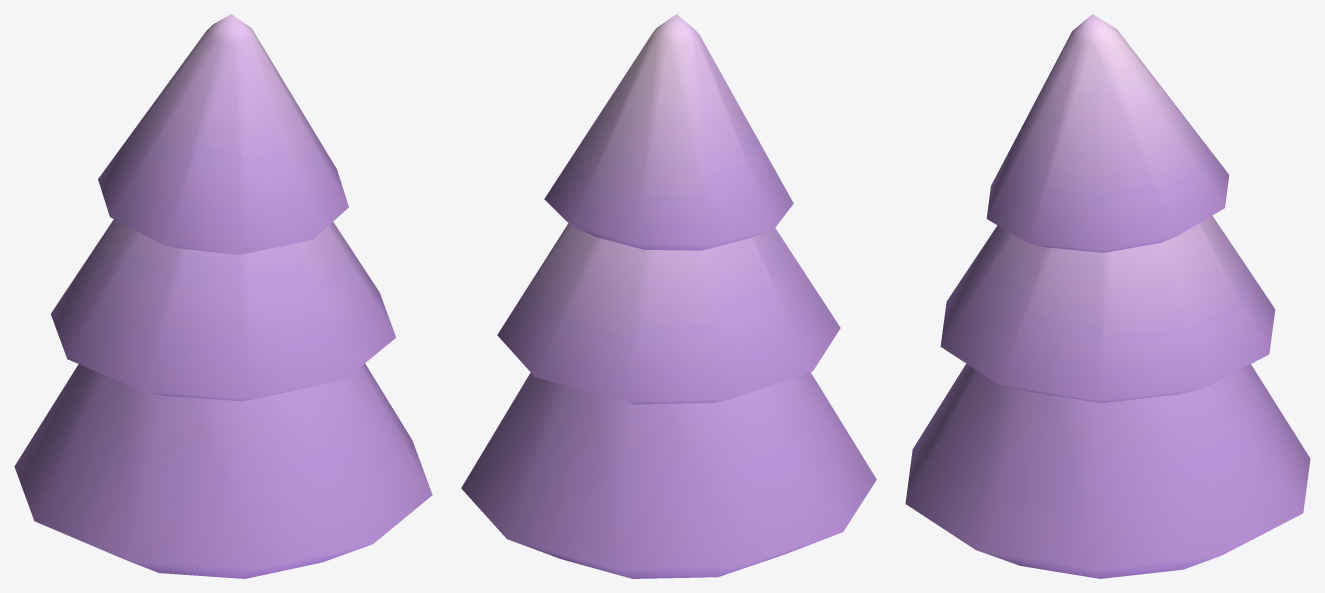
Rendered from tree.fbx.
The picture shows the model from 3 angles, left to right: view 1: azimuth 30°, elevation 25°; view 2: azimuth 150°, elevation 25°; view 3: azimuth 270°, elevation 25°; orthographic projection.
Visible parts, largest first — view 1: Fit.003; view 2: Fit.003; view 3: Fit.003.
Boxes of the visible parts, left/top/right/bottom form: Fit.003: left=14, top=14, right=432, bottom=578; Fit.003: left=461, top=14, right=876, bottom=578; Fit.003: left=905, top=14, right=1310, bottom=578.
Bounding box in the file's own units: 9.24 × 12.33 × 8.94.
